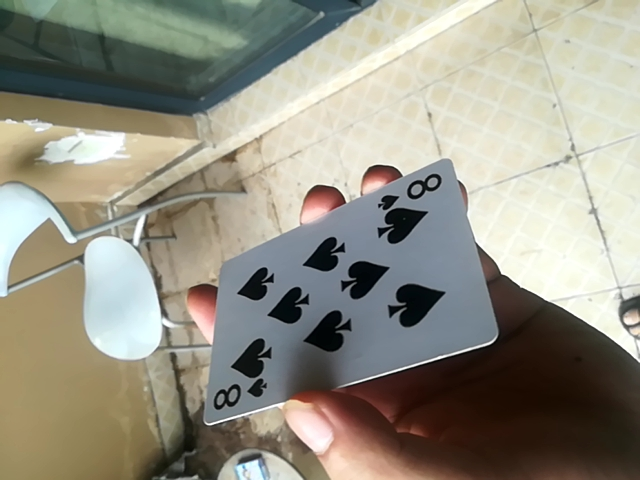ht 8: (201, 153, 505, 427)
